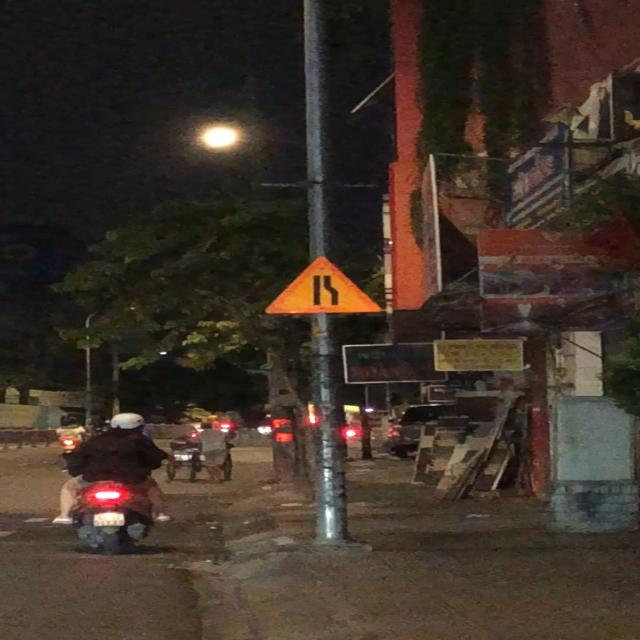Bien bao duong bi thu hep: (260, 253, 382, 315)
